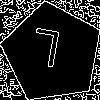L: (27, 28, 62, 77)
